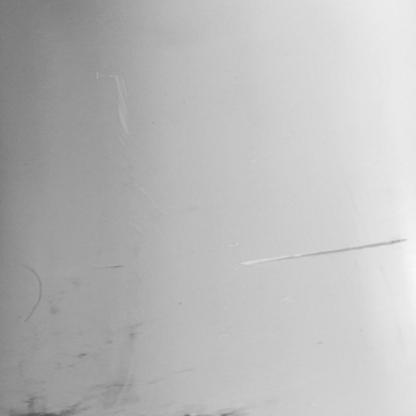sunshang: (241, 236, 407, 267), (12, 265, 43, 320)
